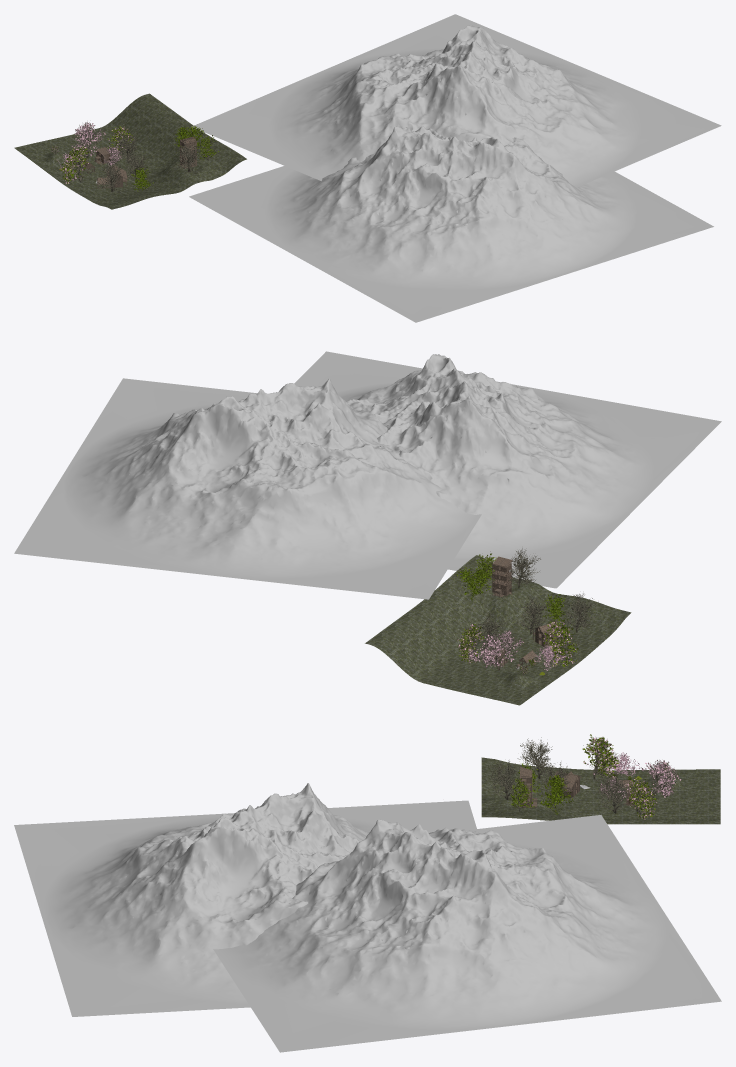
The model's file is world-mobile.glb.
The picture shows the model from 3 angles, top to bottom: view 1: azimuth 30°, elevation 25°; view 2: azimuth 150°, elevation 25°; view 3: azimuth 270°, elevation 25°; orthographic projection. The views are drawn at different scales.
Parts seen in each view (by area): view 1: Landscape.003, Landscape.001, Plane.025, Spring Sakura Tree.003, Tree White Sakura; view 2: Landscape.001, Landscape.003, Plane.025, Spring Sakura Tree.003, Tree White Sakura, White Sakura.003, White Sakura, White Sakura.002, Spring Sakura Tree.002, Spring Cherry Tree; view 3: Landscape.001, Landscape.003, Plane.025, Spring Sakura Tree.003, Tree White Sakura, Spring Sakura Tree.002, White Sakura.001, White Sakura.002, White Sakura.003, Spring Cherry Tree, White Sakura.
Part boxes in pixels (x1,y1,x2,y2): Landscape.003: (189, 126, 713, 322); Landscape.001: (191, 14, 721, 187); Plane.025: (14, 93, 246, 209); Spring Sakura Tree.003: (60, 146, 91, 183); Tree White Sakura: (71, 122, 105, 157); Landscape.001: (14, 378, 481, 599); Landscape.003: (294, 351, 721, 588); Plane.025: (365, 555, 631, 705); Spring Sakura Tree.003: (543, 619, 578, 666); Tree White Sakura: (467, 634, 517, 670); White Sakura.003: (561, 593, 598, 632); White Sakura: (516, 594, 552, 634); White Sakura.002: (505, 548, 540, 588); Spring Sakura Tree.002: (457, 623, 484, 662); Spring Cherry Tree: (456, 567, 491, 601); Landscape.001: (213, 815, 721, 1052); Landscape.003: (14, 783, 476, 1016); Plane.025: (481, 757, 720, 824); Spring Sakura Tree.003: (582, 734, 619, 779); Tree White Sakura: (634, 760, 681, 797); Spring Sakura Tree.002: (627, 778, 657, 819); White Sakura.001: (593, 772, 628, 813); White Sakura.002: (486, 760, 518, 800); White Sakura.003: (517, 737, 554, 778); Spring Cherry Tree: (540, 775, 573, 814); White Sakura: (538, 762, 575, 802).
Bounding box in the file's own units: 260 × 61.27 × 247.
20 materials, 15 textured.
